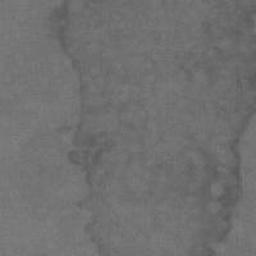Water spot: (46, 0, 256, 256)
